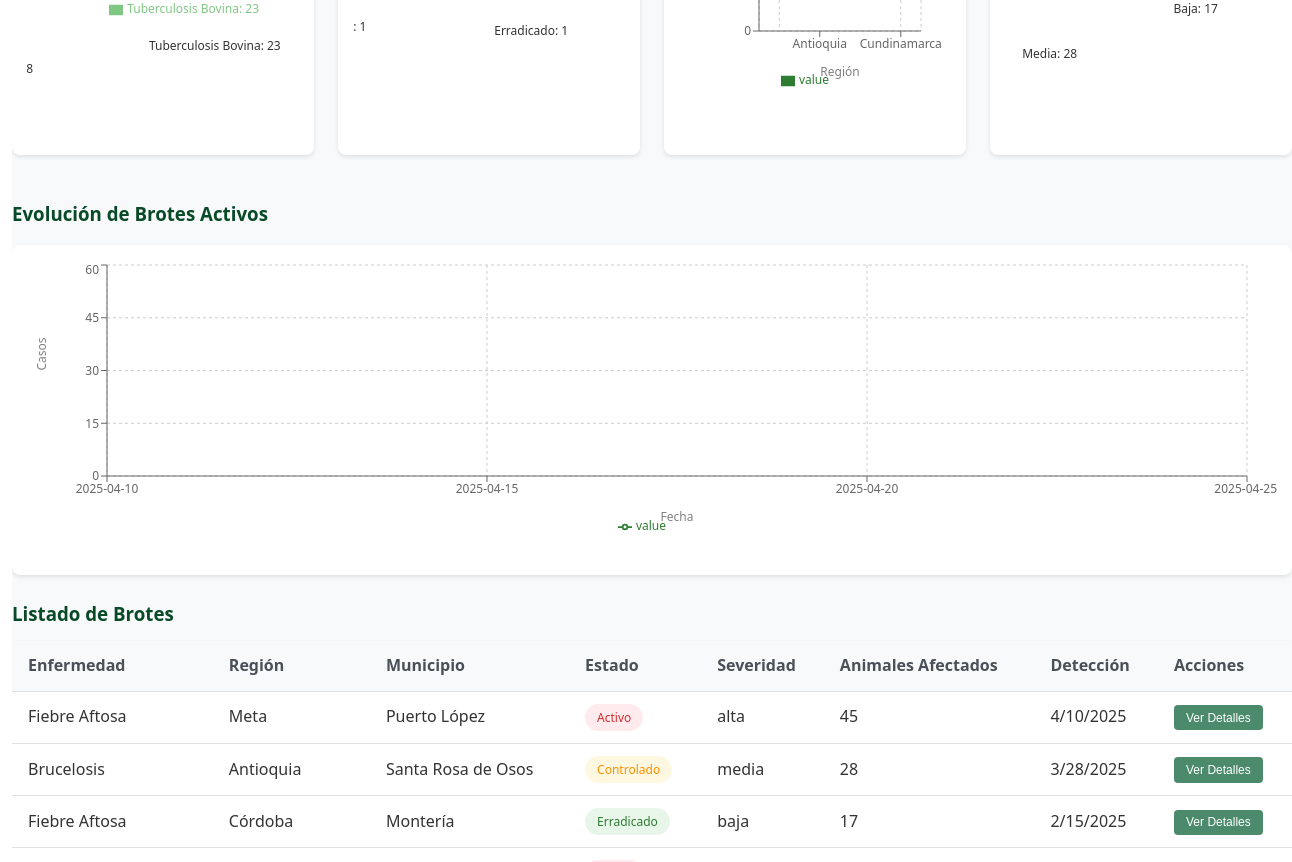
Test: OutbreaksView Component › shows outbreak details when a row is clicked
This screenshot has width=1292, height=862.
(page scrolled)
Expected: the text "Detalles del Brote" is not shown
Click on a details button
What coordinates should you click on to do the following:
click the button "Ver Detalles" in the row of "Meta"
I would click on:
 (1218, 718)
Its box is x1=1174 y1=705 x2=1263 y2=730.
(page scrolled)
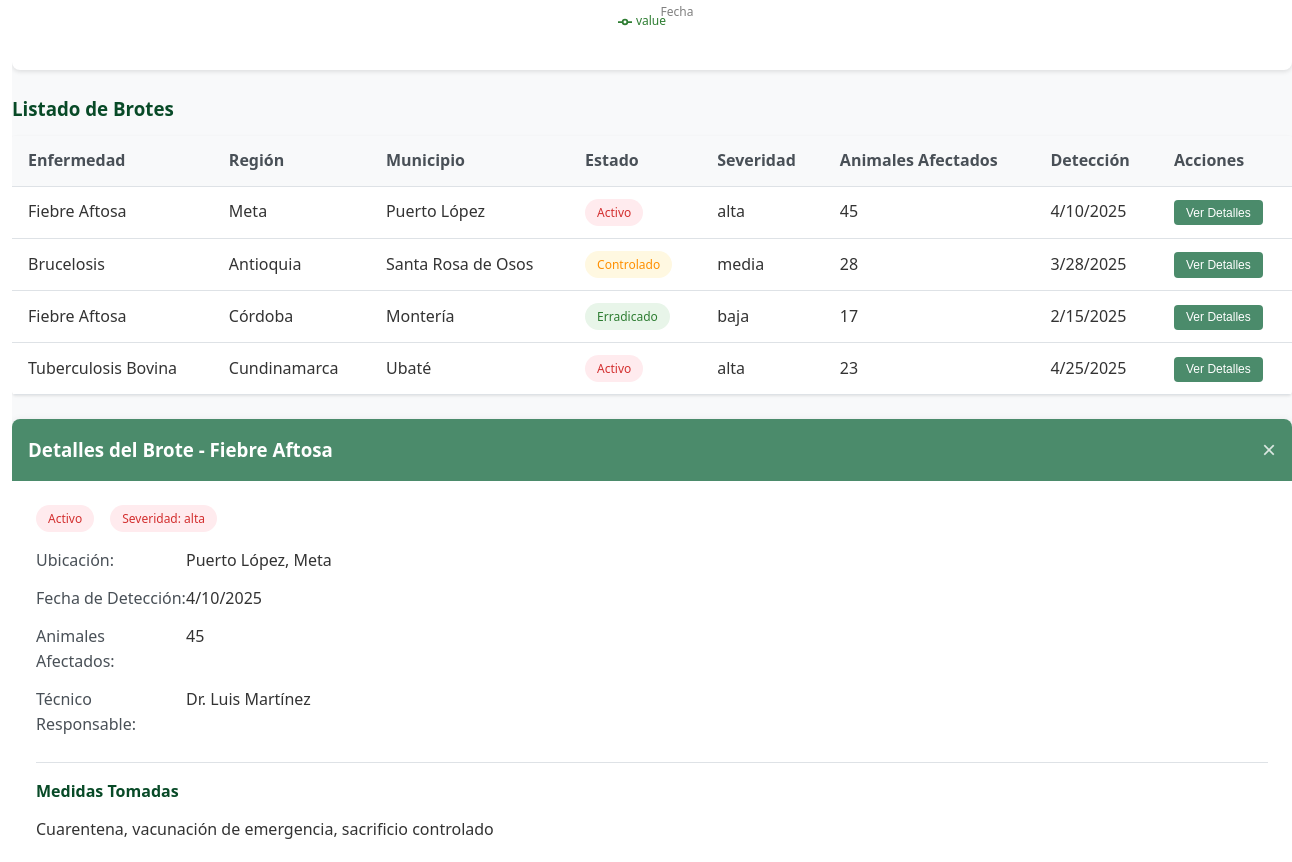
Expected: the heading "Detalles del Brote - Fiebre Aftosa" is shown, x1=28 y1=435 x2=333 y2=465
Expected: the heading "Medidas Tomadas" is shown, x1=36 y1=780 x2=179 y2=802
Close the panel
What coordinates should you click on to do the following:
click the button "×"
I would click on:
 (1269, 450)
Its box is x1=1262 y1=438 x2=1276 y2=462.
(page scrolled)
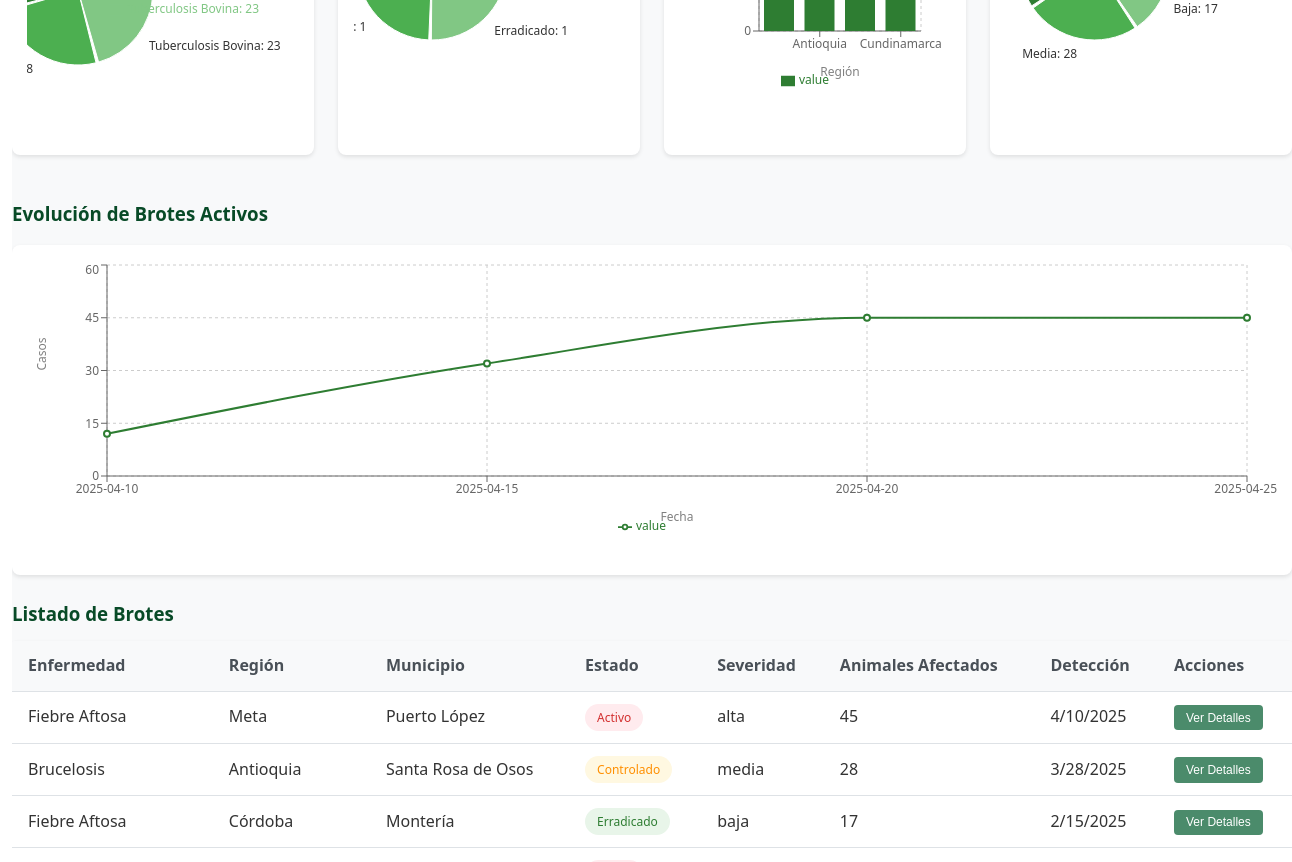
Expected: the heading "Detalles del Brote" is gone
